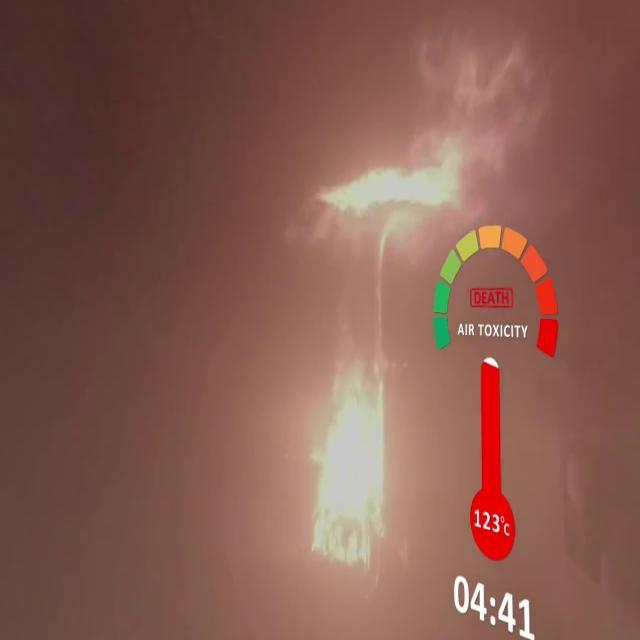Fire: (329, 97, 468, 210), (314, 361, 384, 566), (480, 350, 502, 552)
Smoke: (12, 41, 290, 640), (524, 4, 640, 358), (542, 388, 640, 629), (388, 376, 474, 640)
